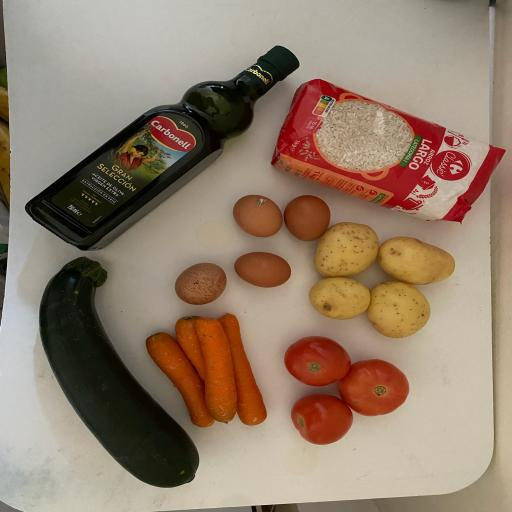carrot: (159, 298, 261, 420), (135, 318, 228, 432), (188, 306, 252, 440), (212, 306, 275, 440)
courgette: (14, 244, 222, 500), (24, 248, 215, 508)
egg: (231, 246, 295, 291), (171, 256, 228, 306), (281, 193, 333, 244), (231, 192, 285, 241)
olive_oil: (13, 35, 313, 256)
potato: (359, 228, 469, 296), (350, 268, 441, 344), (310, 208, 383, 290), (298, 268, 386, 330)
rice: (263, 58, 507, 236)
tomato: (338, 357, 413, 417), (284, 391, 364, 447), (280, 334, 356, 389)
